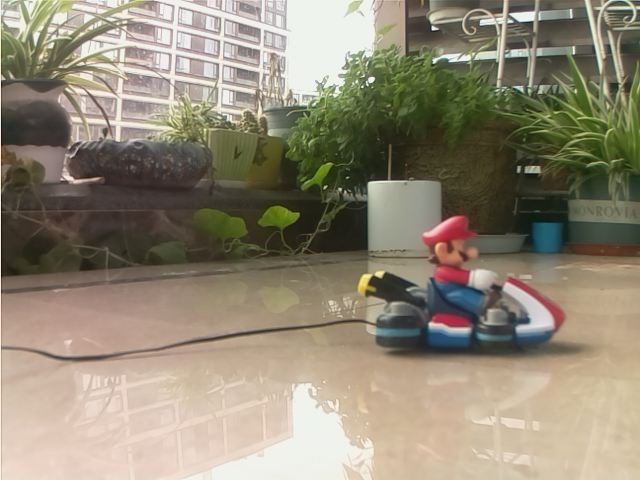mario: (339, 200, 577, 369)
